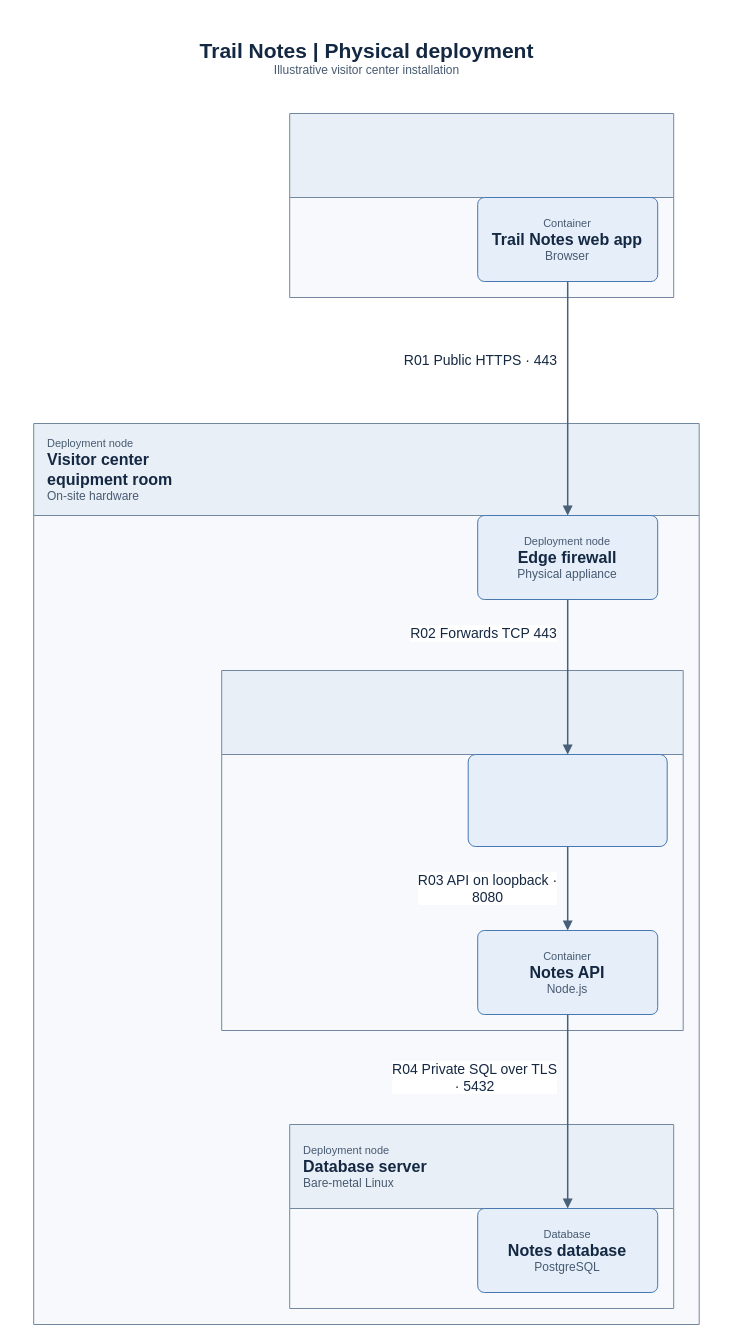
Image size: 732x1342. Some labels were removed from this diagram. The shapes that lost their labels are listed below. From the top down, each one's box as (x1, y1, x2, y2) in pixels, then its label:
(289, 112, 674, 298): Deployment node Field tablet Physical Android device
(467, 754, 667, 846): Container Web server and reverse proxy Caddy
(221, 670, 683, 1030): Deployment node Application server Bare-metal Linux
